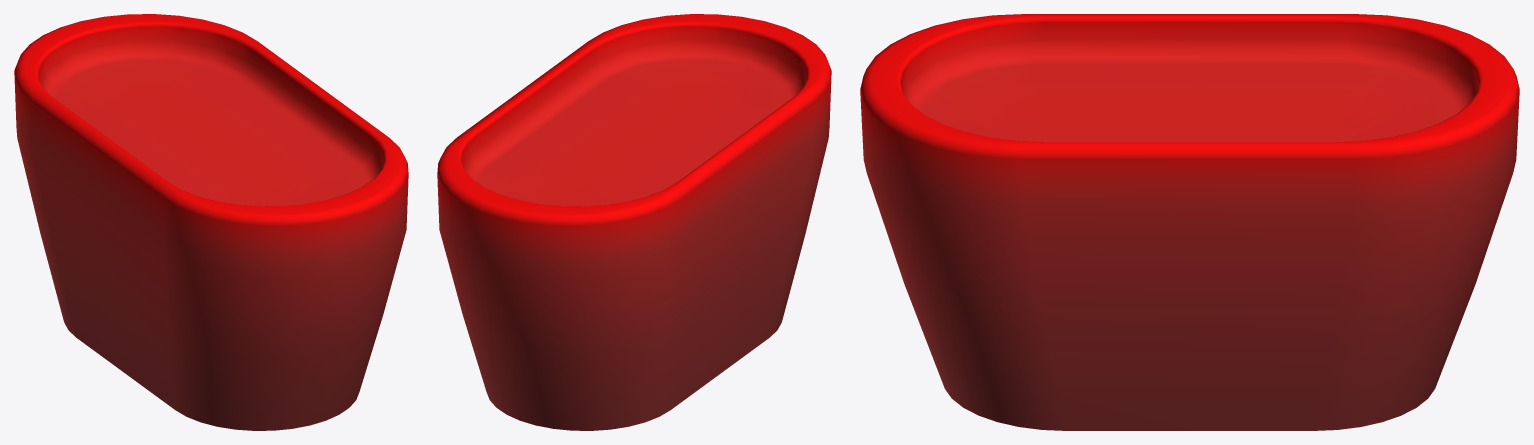
The model's file is FlowerBoxNewUVs.fbx.
3 renders of one model, left to right at view 1: azimuth 30°, elevation 25°; view 2: azimuth 150°, elevation 25°; view 3: azimuth 270°, elevation 25°, orthographic. The views are drawn at different scales.
Parts seen in each view (by area): view 1: Flower_box; view 2: Flower_box; view 3: Flower_box.
Part boxes in pixels (left/top/right/bottom): Flower_box: left=14, top=14, right=408, bottom=430; Flower_box: left=437, top=14, right=831, bottom=430; Flower_box: left=860, top=14, right=1519, bottom=430.
Size of the model in its own units: 3.99 by 4 by 7.99.
1 material, 1 textured.
